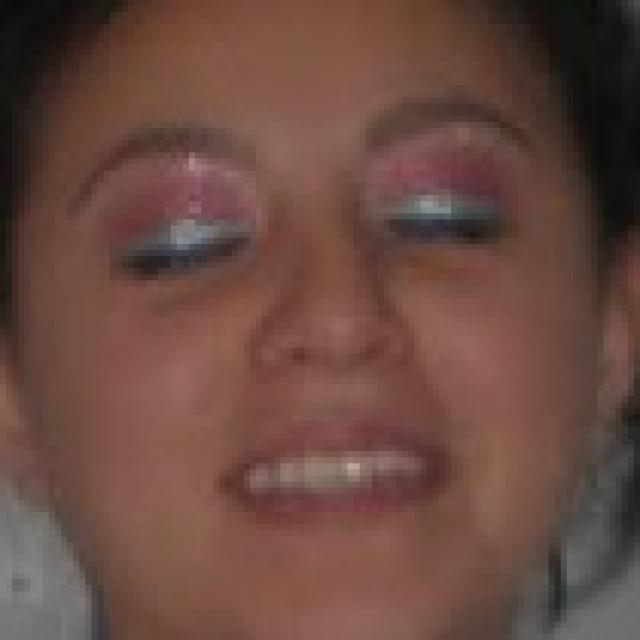Eyeclosed: (113, 218, 244, 286), (387, 193, 492, 261)
